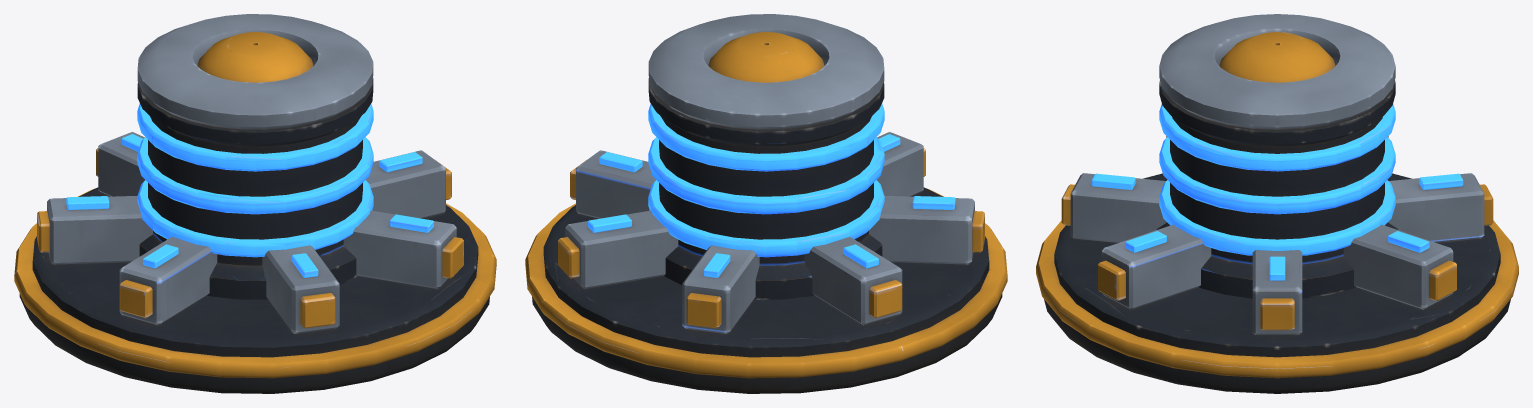
Rendered from harness_router.glb.
3 views of the same model, side by side, from view 1: azimuth 30°, elevation 25°; view 2: azimuth 150°, elevation 25°; view 3: azimuth 270°, elevation 25° (orthographic).
Parts seen in each view (by area): view 1: Batch_0, Batch_1; view 2: Batch_0, Batch_1; view 3: Batch_0, Batch_1.
Part boxes in pixels (box(x1,y1,x2,y2)): Batch_0: box(14, 14, 496, 393); Batch_1: box(66, 103, 433, 277); Batch_0: box(525, 14, 1007, 393); Batch_1: box(588, 103, 955, 277); Batch_0: box(1036, 14, 1518, 393); Batch_1: box(1091, 104, 1463, 280).
Bounding box in the file's own units: 1.84 × 1.06 × 1.84.
2 materials, 2 textured.
